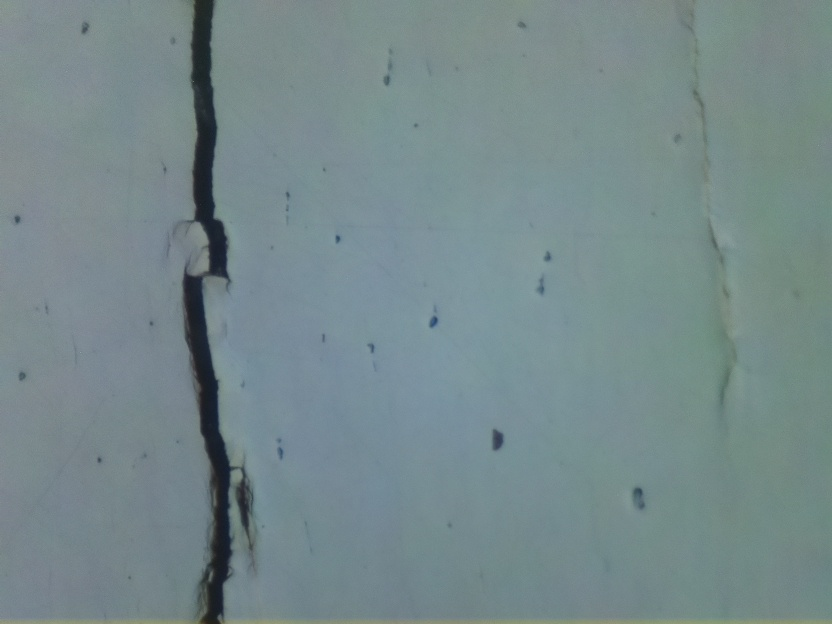crack: (165, 0, 255, 623)
